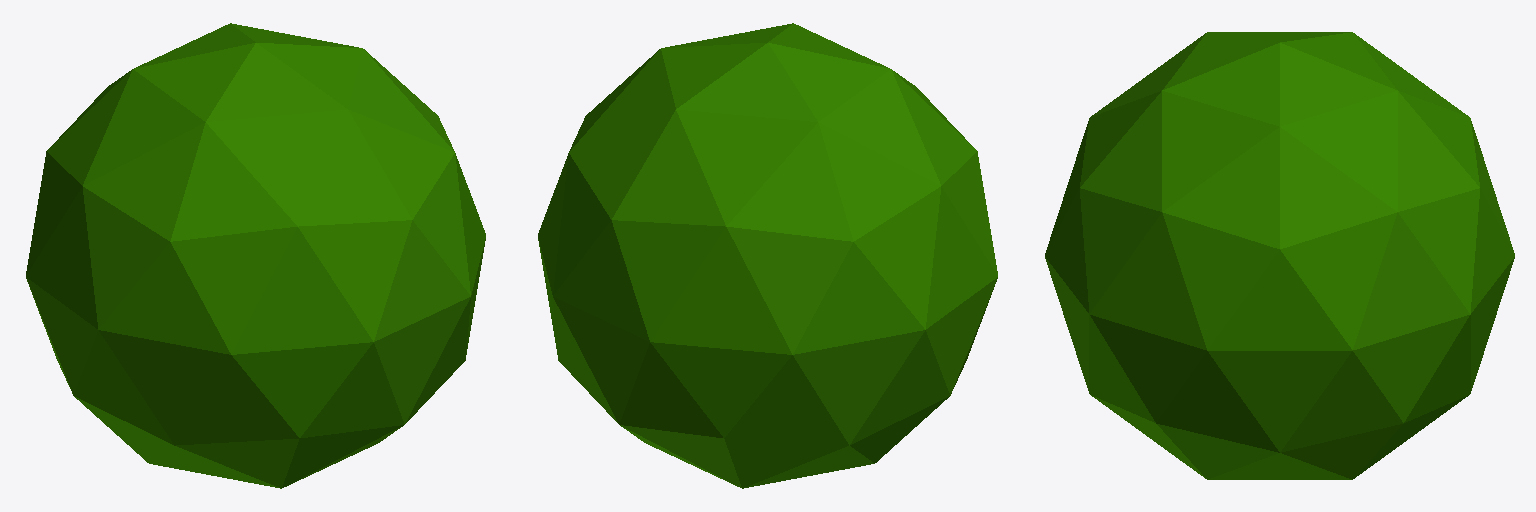
File: Planete.obj
3 renders of one model, left to right at view 1: azimuth 30°, elevation 25°; view 2: azimuth 150°, elevation 25°; view 3: azimuth 270°, elevation 25°, orthographic.
Visible parts, largest first — view 1: GeoSphere001; view 2: GeoSphere001; view 3: GeoSphere001.
Part boxes in pixels (x1,y1,x2,y2): GeoSphere001: (26, 23, 485, 488); GeoSphere001: (538, 23, 997, 488); GeoSphere001: (1045, 32, 1514, 479).
Bounding box in the file's own units: 38.04 × 40 × 40.